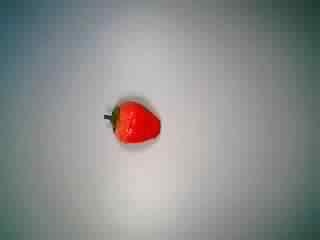strawberry: (98, 91, 166, 155)
